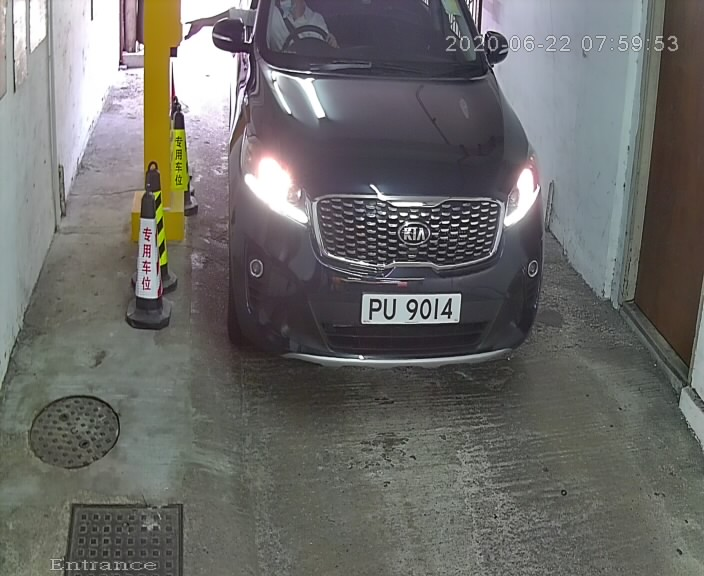privatecar: (201, 1, 588, 403)
